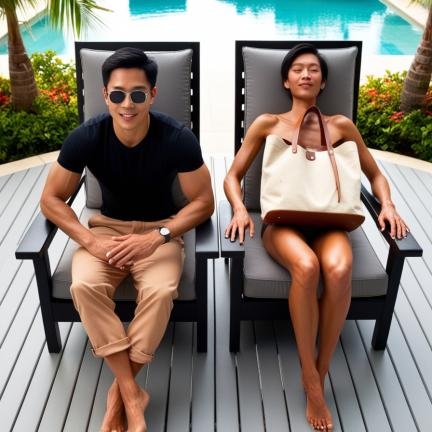guest on chair: (219, 40, 422, 432), (16, 42, 219, 432)
